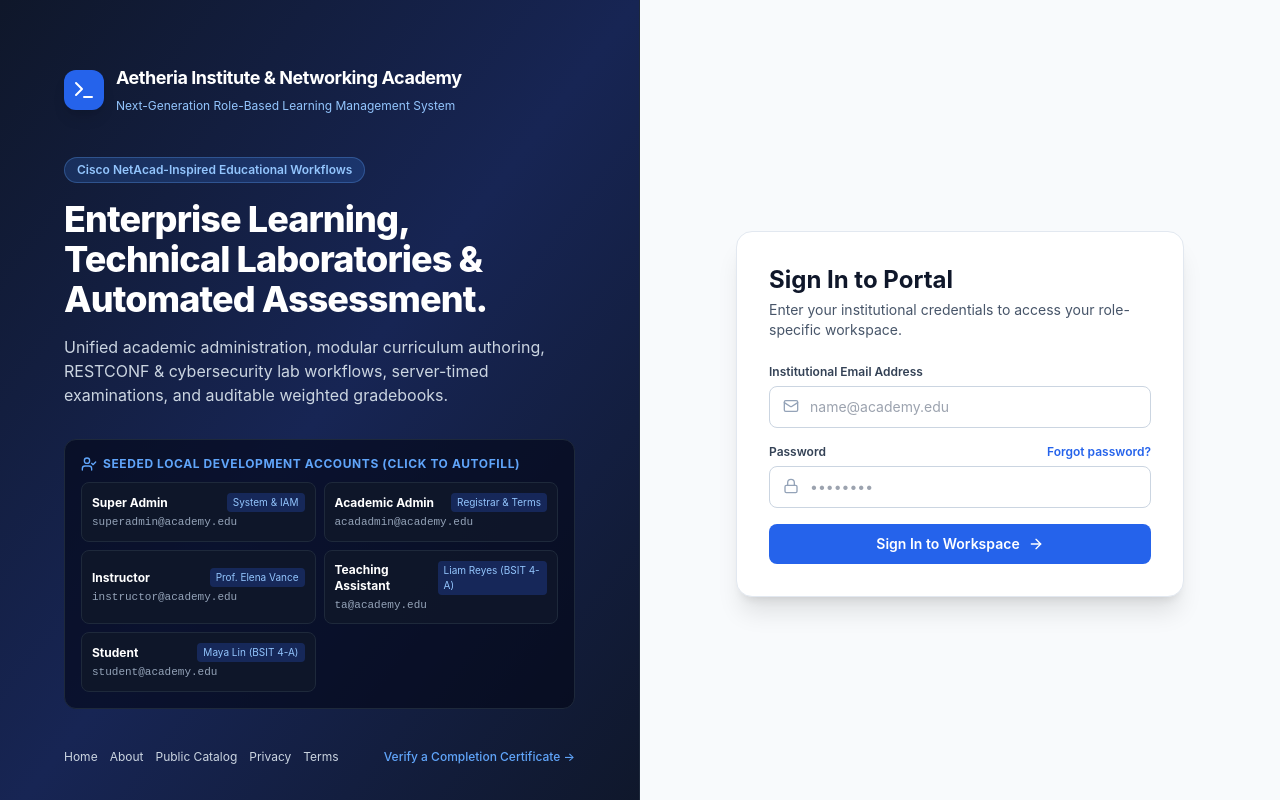
Scenario: NetAcad LMS Frontend Suite › Authentication & Login Workflows › autofills credentials when clicking a quick demo role button
Click the button "Instructor Prof. Elena Vance instructor@academy.edu" at coordinates (198, 587), box [81,550,316,624]
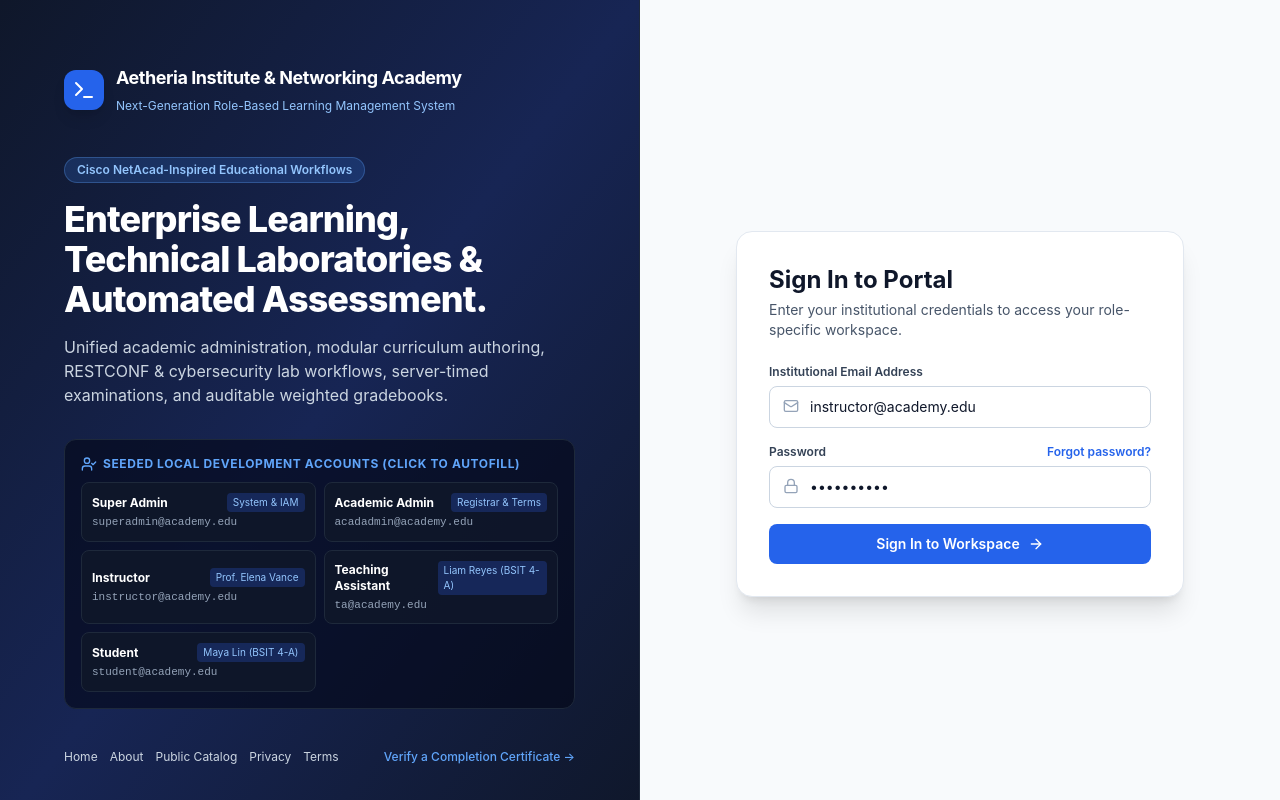
Now the field with placeholder "name@academy.edu" holds "instructor@academy.edu", box [769,386,1151,428]
